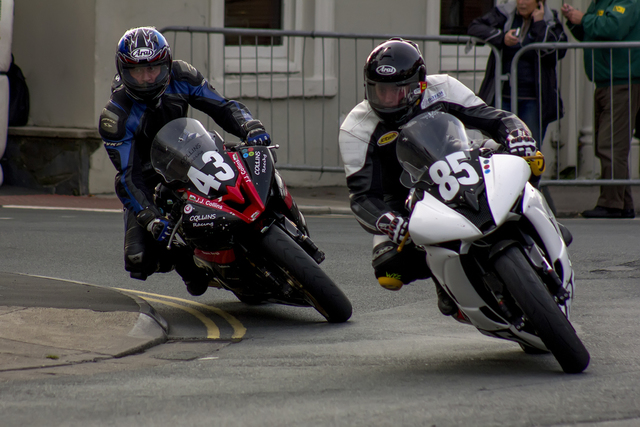helmet: (109, 22, 176, 106), (361, 39, 429, 111)
